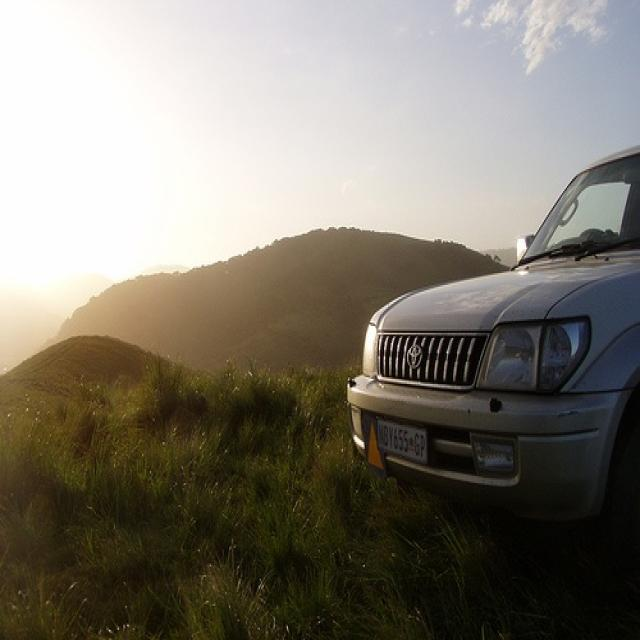car: (344, 143, 639, 546)
